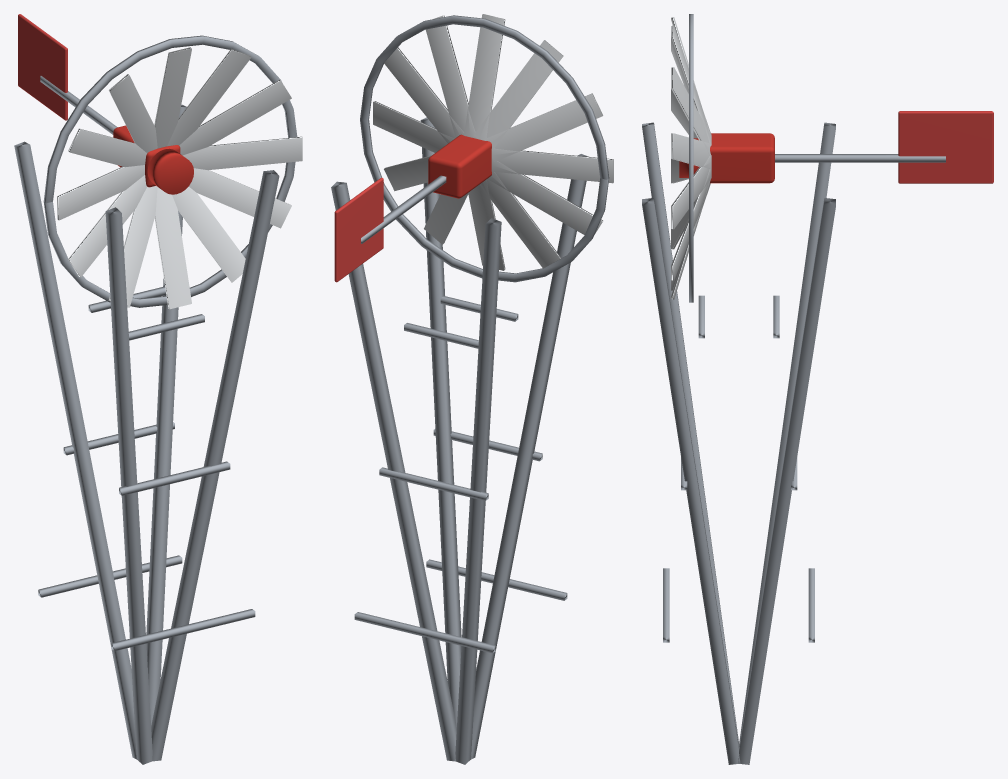
Rendered from windmill_mobile.glb.
3 renders of one model, left to right at view 1: azimuth 30°, elevation 25°; view 2: azimuth 150°, elevation 25°; view 3: azimuth 270°, elevation 25°, orthographic.
Visible parts, largest first — view 1: Tower, Blades; view 2: Tower, Blades; view 3: Tower, Blades.
Boxes of the visible parts, x1,y1,x2,y2 form: Tower: [14, 14, 279, 764]; Blades: [43, 35, 302, 309]; Tower: [331, 117, 588, 764]; Blades: [360, 14, 613, 282]; Tower: [642, 111, 993, 764]; Blades: [671, 14, 711, 302].
Size of the model in its own units: 3.64 by 10.17 by 4.42.
